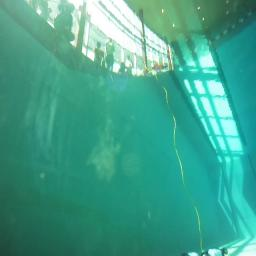front: (180, 247, 230, 256)
